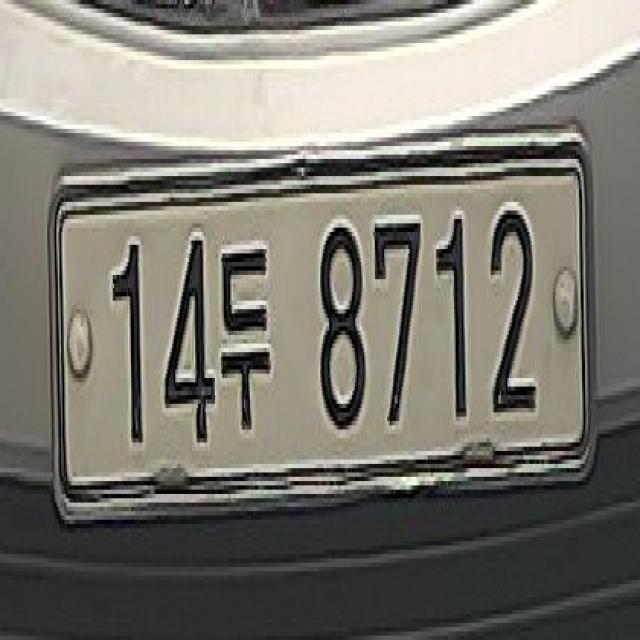1: (105, 219, 154, 468), (431, 198, 477, 434)
2: (483, 193, 544, 430)
4: (158, 210, 218, 460)
7: (370, 202, 427, 434)
8: (316, 211, 370, 438)
du: (218, 206, 279, 438)
license_plate: (46, 95, 603, 541)
